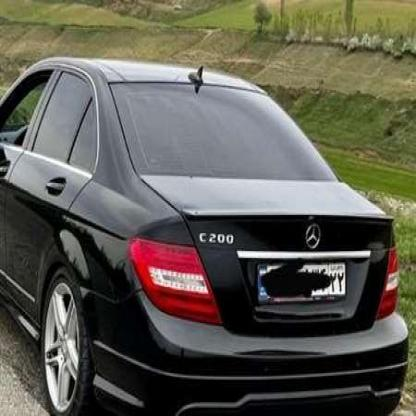Car: (0, 52, 415, 416)
